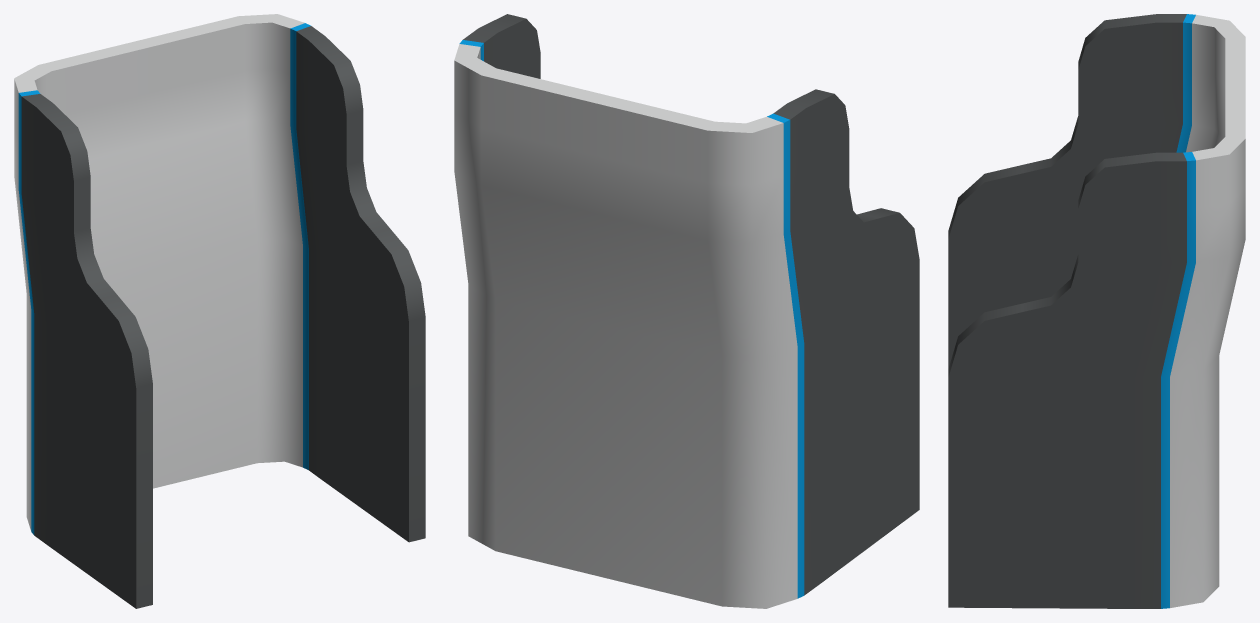
File: Armchair_016.fbx
The picture shows the model from 3 angles, left to right: view 1: azimuth 30°, elevation 25°; view 2: azimuth 150°, elevation 25°; view 3: azimuth 270°, elevation 25°; orthographic projection. The views are drawn at different scales.
Visible parts, largest first — view 1: Plane.051; view 2: Plane.051; view 3: Plane.051.
Boxes of the visible parts, box(x1,y1,x2,y2) form: Plane.051: box(14, 14, 425, 608); Plane.051: box(454, 14, 919, 608); Plane.051: box(948, 14, 1245, 608).
Bounding box in the file's own units: 63.55 × 54.2 × 90.14.
